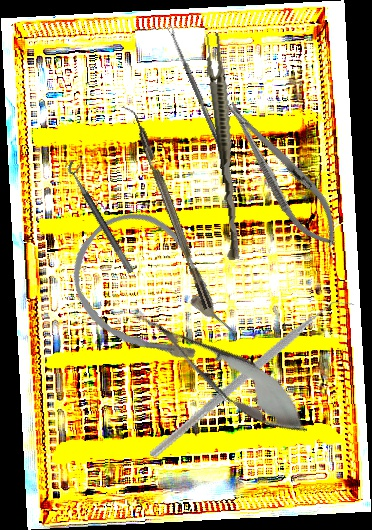Cannula: (49, 191, 255, 395)
Chopper: (149, 258, 356, 502), (119, 101, 212, 314)
Fixation Ring: (63, 155, 144, 275)
Micro Scissor: (120, 291, 322, 450)
Needle Holder: (212, 89, 352, 258)
Surgical Spoon: (166, 24, 225, 150)
Tissue Forceps: (200, 32, 249, 261)
